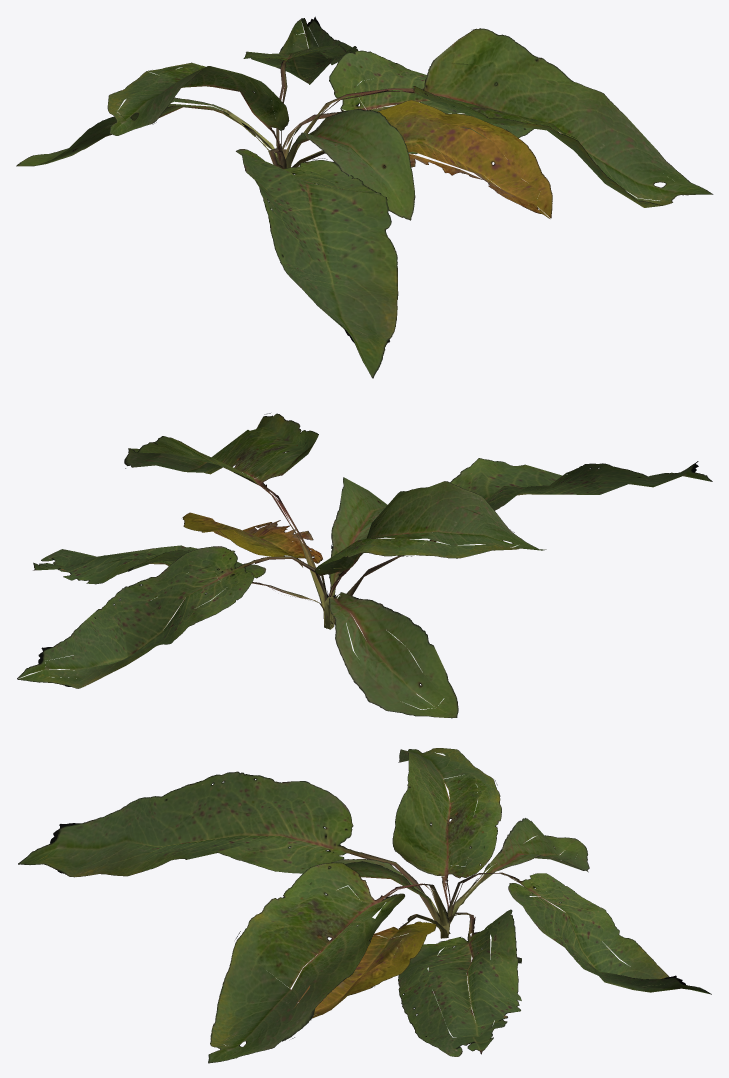
The model's file is SM_Weeds.glb.
3 renders of one model, top to bottom at view 1: azimuth 30°, elevation 25°; view 2: azimuth 150°, elevation 25°; view 3: azimuth 270°, elevation 25°, orthographic. The views are drawn at different scales.
Visible parts, largest first — view 1: SM_Weeds; view 2: SM_Weeds; view 3: SM_Weeds.
Part boxes in pixels (x1,y1,x2,y2): SM_Weeds: [16, 16, 713, 378]; SM_Weeds: [17, 413, 712, 718]; SM_Weeds: [18, 748, 711, 1063].
Bounding box in the file's own units: 0.6035 × 0.1994 × 0.8001.
1 material, 1 textured.
